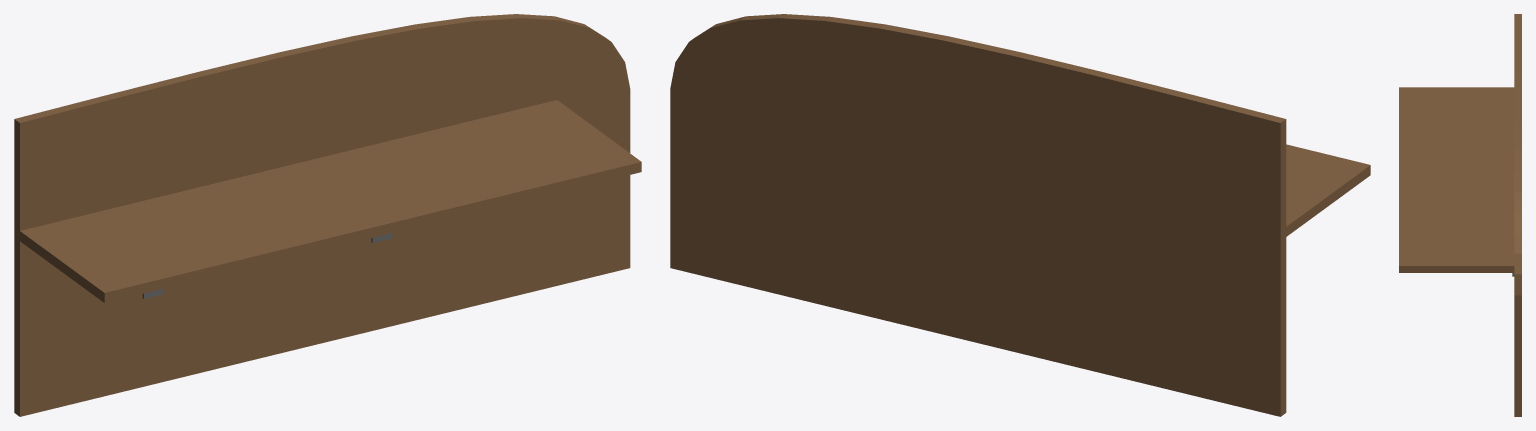
Rendered from shelf.fbx.
3 views of the same model, side by side, from view 1: azimuth 30°, elevation 25°; view 2: azimuth 150°, elevation 25°; view 3: azimuth 270°, elevation 25° (orthographic). The views are drawn at different scales.
Parts seen in each view (by area): view 1: Plane; view 2: Plane; view 3: Plane.
Boxes of the visible parts, box(x1,y1,x2,y2) form: Plane: box(14, 14, 641, 416); Plane: box(670, 14, 1370, 416); Plane: box(1399, 14, 1521, 416).
Size of the model in its own units: 125 by 57.94 by 32.
